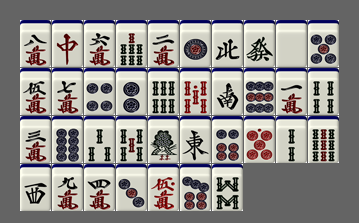0m: (148, 164, 179, 211)
0p: (244, 116, 275, 163)
0s: (180, 68, 211, 115)
1m: (276, 68, 307, 115)
1p: (180, 20, 211, 67)
1s: (148, 116, 179, 163)
1z: (180, 116, 211, 163)
2m: (148, 20, 179, 67)
2p: (116, 68, 147, 115)
2s: (276, 116, 307, 163)
2z: (212, 68, 243, 115)
3m: (20, 116, 51, 163)
3p: (116, 164, 147, 211)
3s: (84, 116, 115, 163)
3z: (20, 164, 51, 211)
4m: (84, 164, 115, 211)
4p: (84, 68, 115, 115)
4s: (308, 68, 339, 115)
4z: (212, 20, 243, 67)
5m: (20, 68, 51, 115)
5p: (308, 20, 339, 67)
5s: (116, 116, 147, 163)
5z: (276, 20, 307, 67)
6m: (84, 20, 115, 67)
6p: (212, 116, 243, 163)
6s: (148, 68, 179, 115)
6z: (244, 20, 275, 67)
7m: (52, 68, 83, 115)
7p: (180, 164, 211, 211)
7s: (116, 20, 147, 67)
7z: (52, 20, 83, 67)
8m: (20, 20, 51, 67)
8p: (52, 116, 83, 163)
8s: (212, 164, 243, 211)
9m: (52, 164, 83, 211)
9p: (244, 68, 275, 115)
9s: (308, 116, 339, 163)
